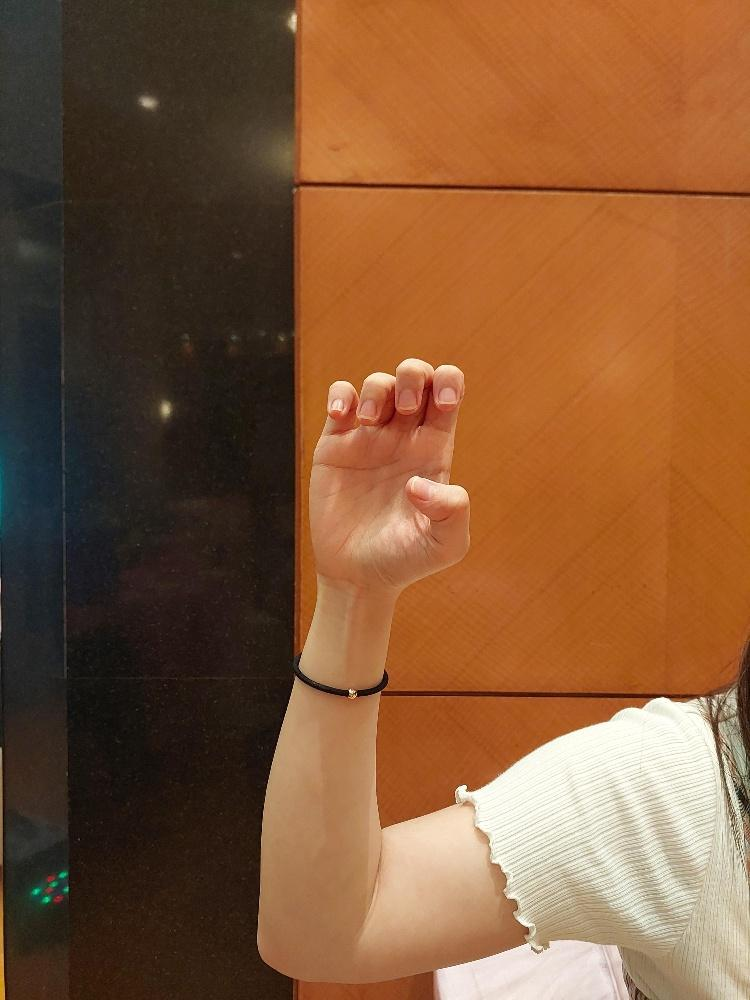e: (306, 353, 473, 594)
